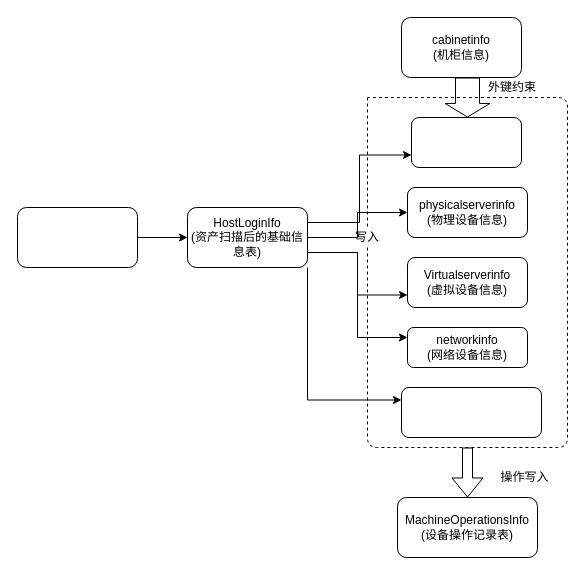
Some shapes in this 586 by 575 pixel diagram are drawn without their labels. Here are the shapes that lost their labels. From the top down, the centre of each, then its label:
the point at 466,142: othermachineinfo (其他设备信息)
the point at 77,237: connecioninfo (主机登录探测信息表)
the point at 471,412: netconnectioninfo (网络设备，交换机资源)
